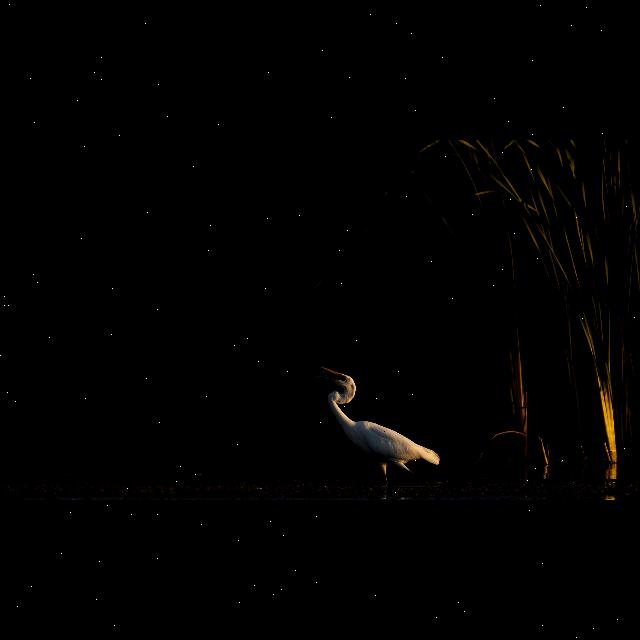egret: (308, 354, 444, 490)
